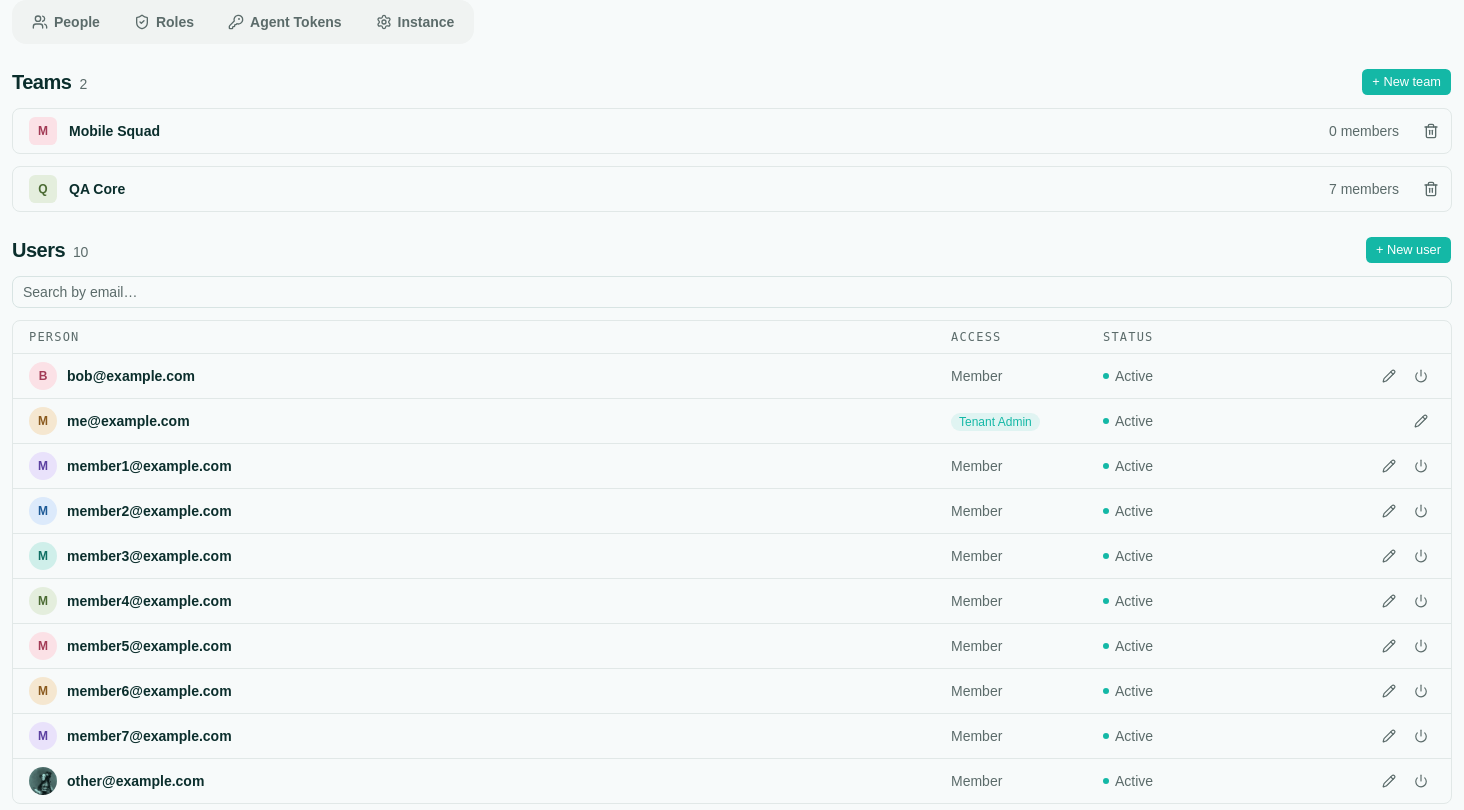
Test: PeoplePage › Users › filters the roster by email via a search box
Expected: the text "other@example.com" is shown, left=67, top=771, right=204, bottom=791
Type "other" into the field with placeholder "Search by email…". click: (732, 292)
box: left=12, top=276, right=1452, bottom=308
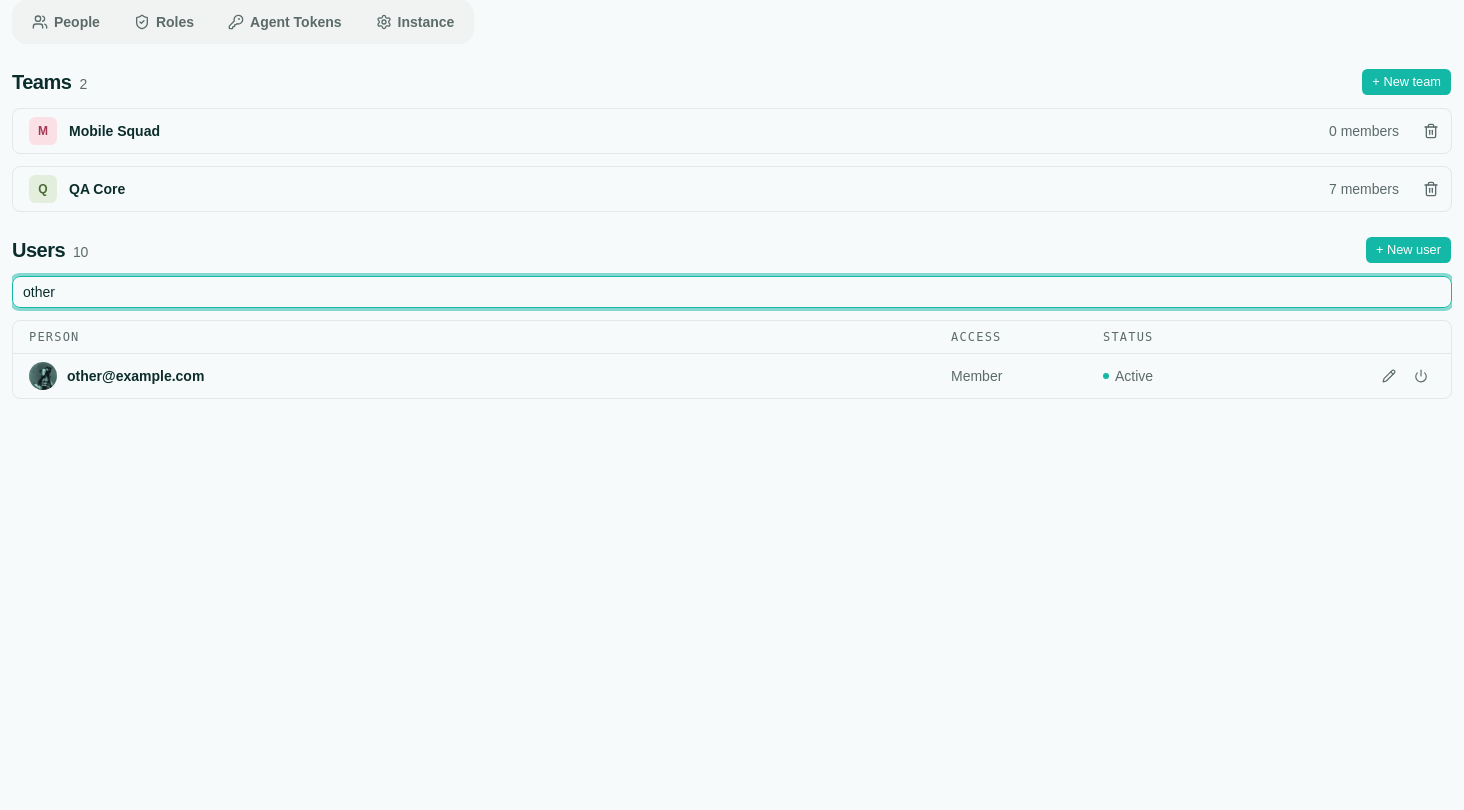
Expected: the text "other@example.com" is shown, left=67, top=366, right=204, bottom=386
Now the text "member1@example.com" is gone
